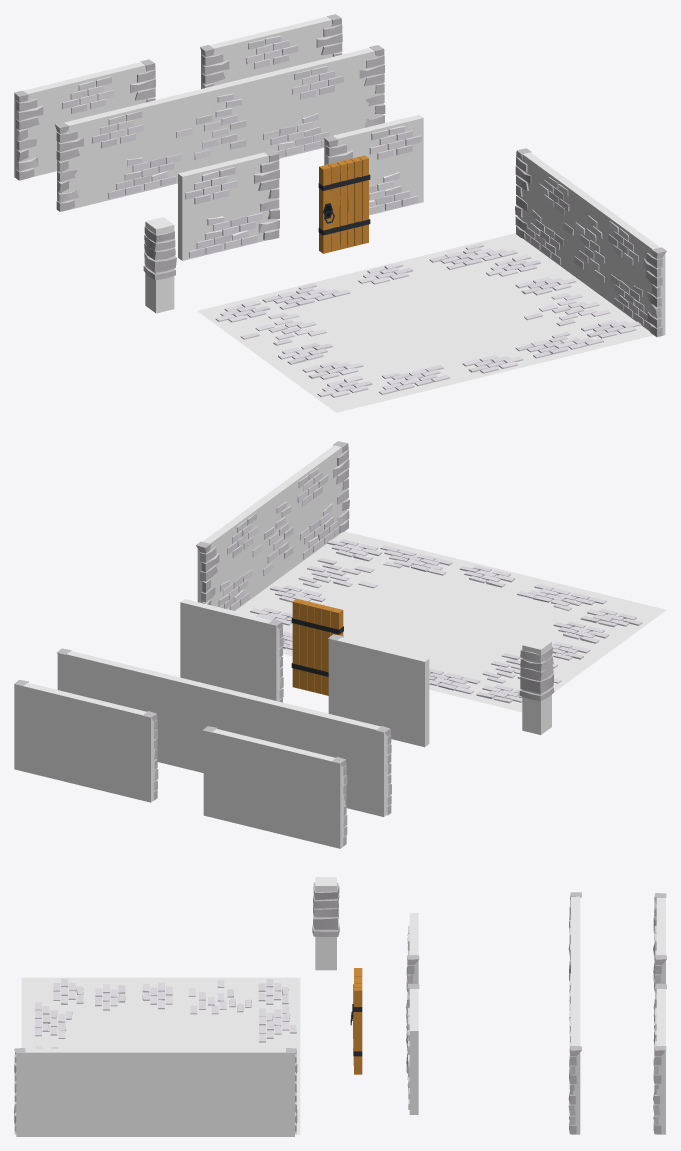
File: Cave.fbx
The picture shows the model from 3 angles, top to bottom: view 1: azimuth 30°, elevation 25°; view 2: azimuth 150°, elevation 25°; view 3: azimuth 270°, elevation 25°; orthographic projection.
Parts seen in each view (by area): view 1: Floor, Wall_Long, Wall_Small_Door, Wall_Long_Door, Wall_Small, Door, Ugol; view 2: Floor, Wall_Long_Door, Wall_Long, Wall_Small_Door, Wall_Small, Door, Ugol; view 3: Wall_Small, Floor, Wall_Long_Door, Wall_Long, Wall_Small_Door, Ugol, Door.
Boxes of the visible parts, x1,y1,x2,y2 form: Floor: (197,233,653,412); Wall_Long: (54,45,385,211); Wall_Small_Door: (178,114,423,260); Wall_Long_Door: (14,14,342,180); Wall_Small: (515,148,666,337); Door: (318,155,370,253); Ugol: (143,217,176,313); Floor: (235,531,666,712); Wall_Long_Door: (14,680,347,848); Wall_Long: (56,648,391,816); Wall_Small_Door: (180,599,429,747); Wall_Small: (196,441,349,610); Door: (291,598,343,695); Ugol: (519,637,554,734); Wall_Small: (14,1048,297,1136); Floor: (21,977,300,1134); Wall_Long_Door: (653,893,666,1134); Wall_Long: (568,892,581,1134); Wall_Small_Door: (406,913,419,1114); Ugol: (312,877,339,970); Door: (350,968,362,1074).
Bounding box in the file's own units: 45.3 × 10.3 × 70.28.
